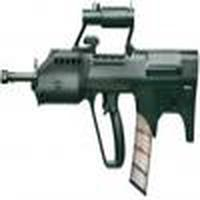gun: (2, 5, 200, 193)
